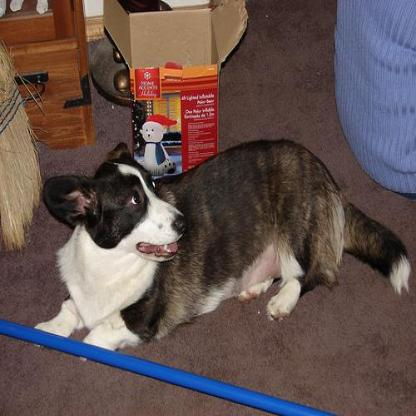Cardigan: (35, 135, 409, 358)
